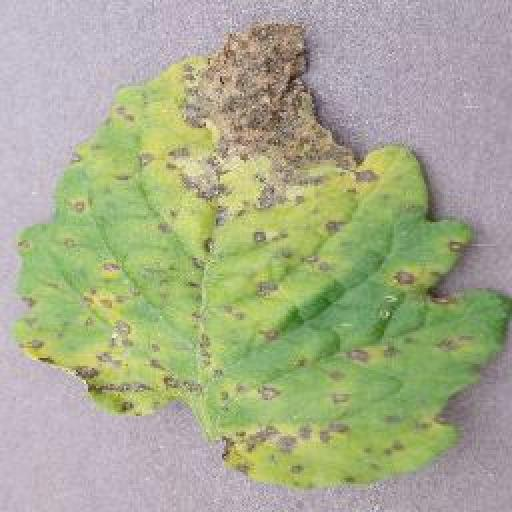disease_tomato: (16, 22, 512, 494)
